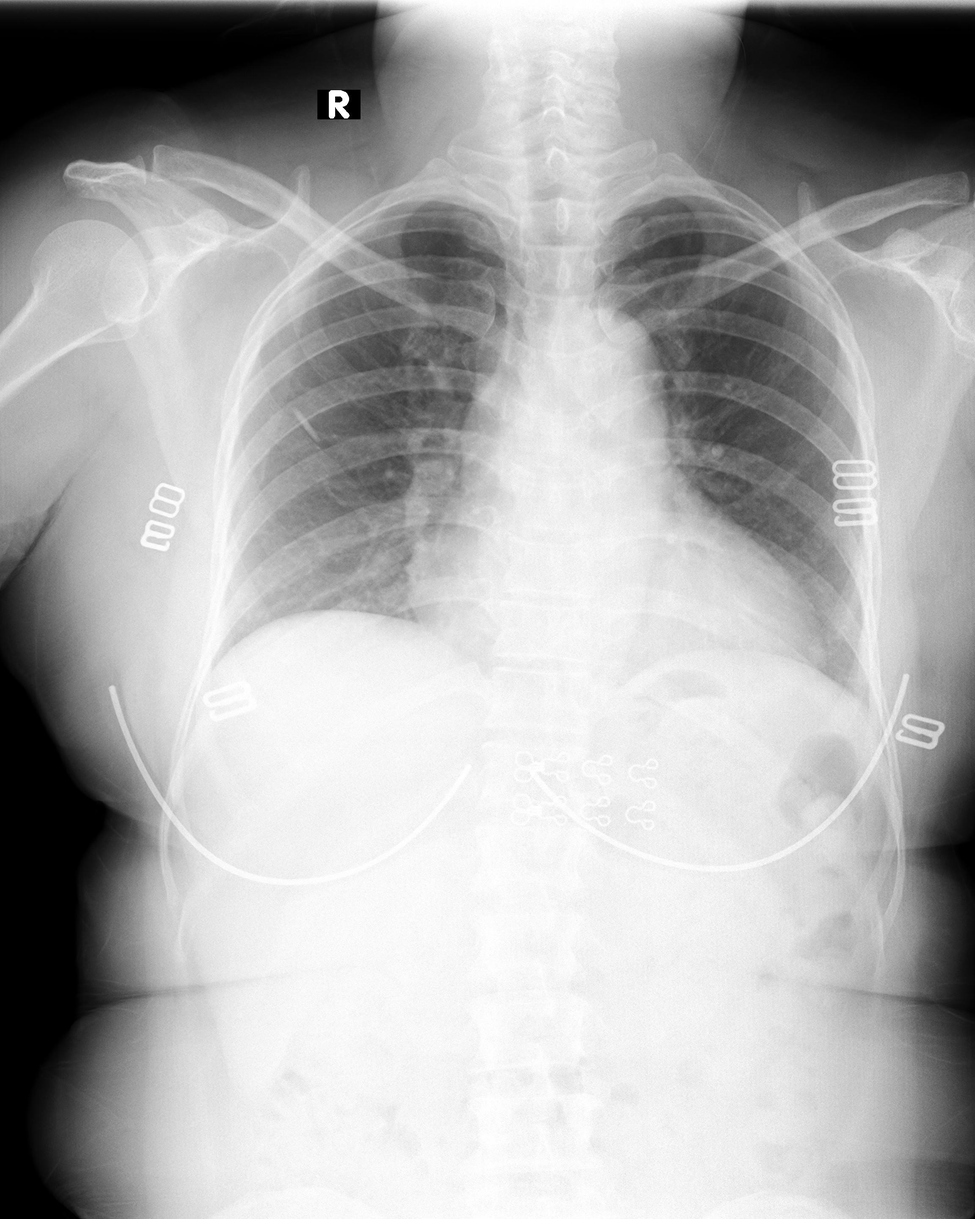Aortic enlargement: (533, 312, 666, 444)
Cardiomegaly: (426, 540, 812, 674)
